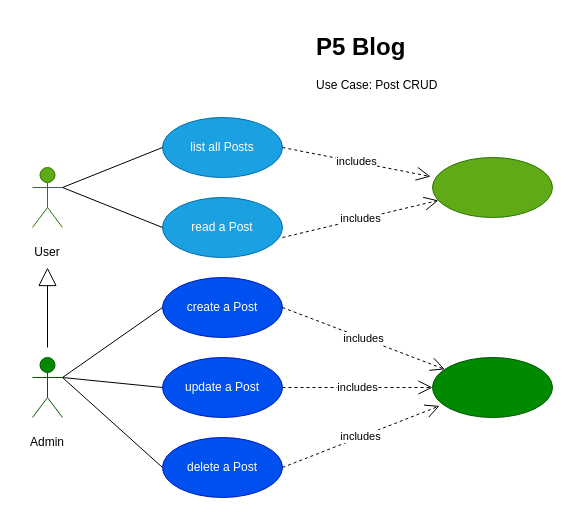
Some shapes in this 570 by 515 pixel diagram are drawn without their labels. The centre of each missing label's shape, as x and y in pixels:
"log in" goes at (x=492, y=187).
"log in as Admin" goes at (x=492, y=387).
